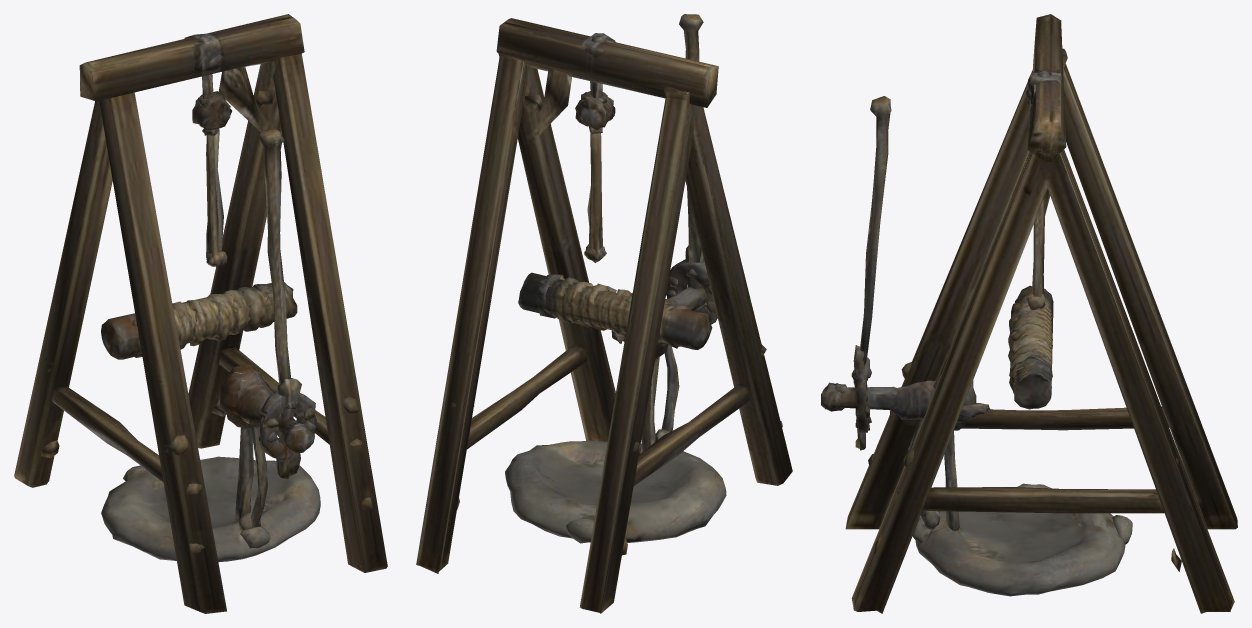
Rendered from mt_guindaste_poco.glb.
3 views of the same model, side by side, from view 1: azimuth 30°, elevation 25°; view 2: azimuth 150°, elevation 25°; view 3: azimuth 270°, elevation 25° (orthographic). The views are drawn at different scales.
Visible parts, largest first — view 1: Mesh_0.001; view 2: Mesh_0.001; view 3: Mesh_0.001.
Boxes of the visible parts, x1,y1,x2,y2 form: Mesh_0.001: [14, 14, 387, 613]; Mesh_0.001: [416, 14, 792, 613]; Mesh_0.001: [821, 14, 1237, 613].
Size of the model in its own units: 0.1172 by 0.2617 by 0.1992.
1 material, 1 textured.
